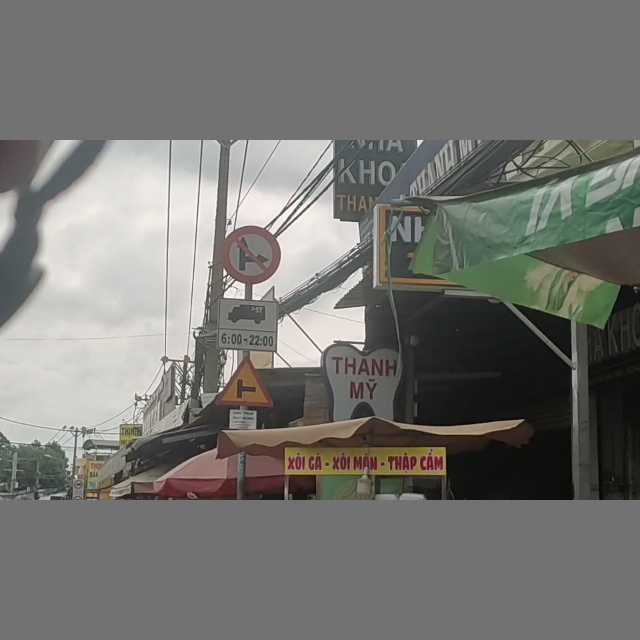P.139: (223, 226, 280, 284)
S.505a*Xe tai: (218, 296, 277, 348)
W.205b: (217, 355, 271, 407)
